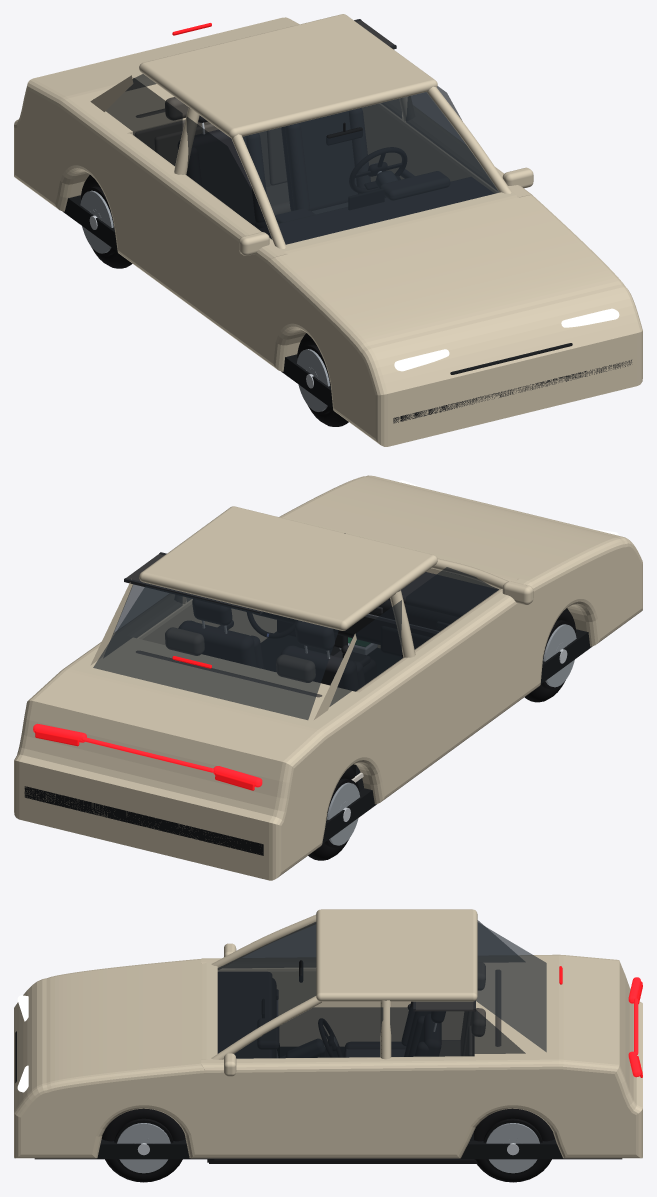
File: familyCar.glb
3 renders of one model, top to bottom at view 1: azimuth 30°, elevation 25°; view 2: azimuth 150°, elevation 25°; view 3: azimuth 270°, elevation 25°, orthographic. The views are drawn at different scales.
Visible parts, largest first — view 1: bodyFront, windshield, roof, bodyRear, frontDoorR, rearDoorSkin, seatDriverBack, seatPassengerBack, sideL, dashTop, sideGlassFR, sideGlassRR (+15 smaller); view 2: bodyRear, bodyFront, roof, rearWindow, bodyRearCut, frontDoorR, rearDoorSkin, sideGlassFR, sideGlassRR, sill, bumperR, dashTop (+19 smaller); view 3: bodyFront, sideL, bodyRear, roof, windshield, bodyRearCut, rearWindow, sideGlassFL, frontDoorR, sideGlassRL, sill, dashTop (+18 smaller).
Boxes of the visible parts, x1=… form: bodyFront: x1=263, y1=192, x2=642, y2=446; windshield: x1=242, y1=92, x2=499, y2=244; roof: x1=139, y1=14, x2=437, y2=138; bodyRear: x1=14, y1=17, x2=299, y2=211; frontDoorR: x1=160, y1=175, x2=287, y2=360; rearDoorSkin: x1=103, y1=131, x2=186, y2=283; seatDriverBack: x1=281, y1=108, x2=370, y2=210; seatPassengerBack: x1=178, y1=122, x2=266, y2=224; sideL: x1=362, y1=103, x2=532, y2=197; dashTop: x1=258, y1=177, x2=494, y2=244; sideGlassFR: x1=186, y1=117, x2=271, y2=238; sideGlassRR: x1=106, y1=78, x2=182, y2=165; bodyRear: x1=14, y1=634, x2=372, y2=880; bodyFront: x1=279, y1=475, x2=642, y2=694; roof: x1=139, y1=506, x2=437, y2=630; rearWindow: x1=93, y1=583, x2=338, y2=719; bodyRearCut: x1=19, y1=639, x2=325, y2=871; frontDoorR: x1=414, y1=578, x2=532, y2=768; rearDoorSkin: x1=354, y1=653, x2=428, y2=804; sideGlassFR: x1=406, y1=567, x2=498, y2=649; sideGlassRR: x1=329, y1=600, x2=401, y2=706; sill: x1=261, y1=629, x2=592, y2=843; bumperR: x1=24, y1=786, x2=263, y2=855; dashTop: x1=388, y1=572, x2=497, y2=616; bodyFront: x1=14, y1=958, x2=217, y2=1158; sideL: x1=201, y1=1056, x2=487, y2=1158; bodyRear: x1=474, y1=954, x2=642, y2=1158; roof: x1=316, y1=909, x2=477, y2=1001; windshield: x1=217, y1=922, x2=316, y2=1053; bodyRearCut: x1=474, y1=971, x2=642, y2=1106; rearWindow: x1=476, y1=922, x2=546, y2=1051; sideGlassFL: x1=234, y1=1007, x2=383, y2=1058; frontDoorR: x1=201, y1=958, x2=380, y2=1046; sideGlassRL: x1=390, y1=1007, x2=525, y2=1056; sill: x1=34, y1=1047, x2=622, y2=1159; dashTop: x1=218, y1=972, x2=271, y2=1058.
Size of the model in its own units: 2.1 by 1.49 by 4.6.
